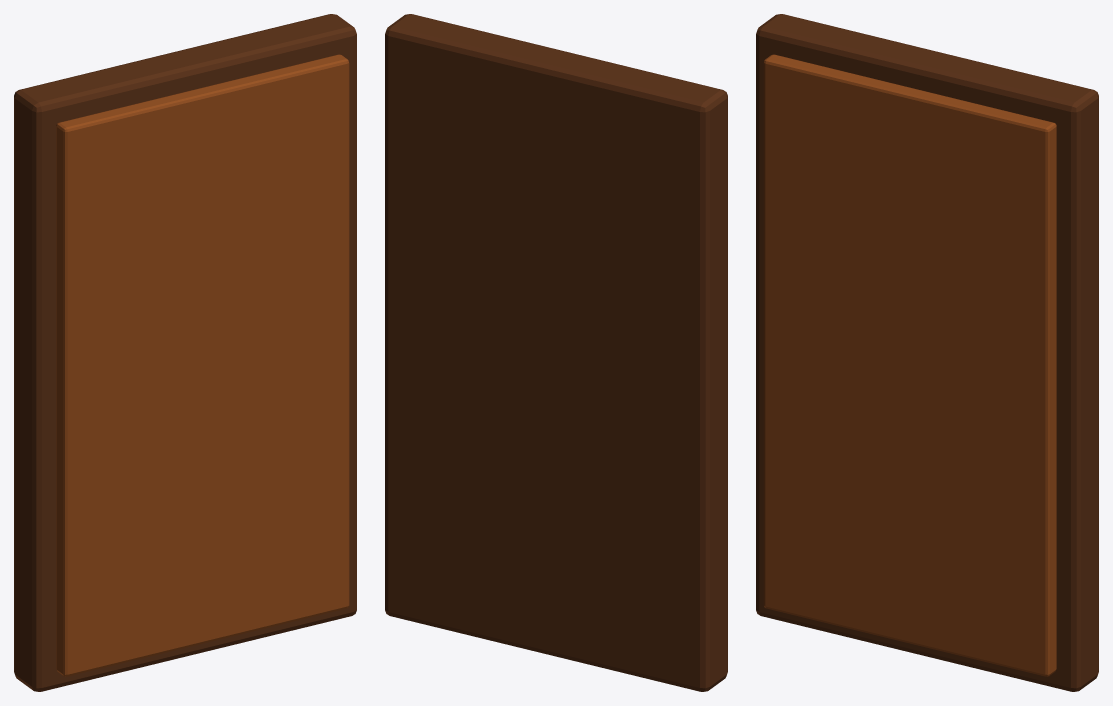
The model's file is door_bronze_pivot_LOD1.glb.
3 views of the same model, side by side, from view 1: azimuth 30°, elevation 25°; view 2: azimuth 150°, elevation 25°; view 3: azimuth 330°, elevation 25° (orthographic).
Parts seen in each view (by area): view 1: LOD1_RaisedFrame, LOD1_BronzeDoor; view 2: LOD1_BronzeDoor; view 3: LOD1_RaisedFrame, LOD1_BronzeDoor.
Part boxes in pixels (<box>): LOD1_RaisedFrame: <box>56,54,349,676</box>; LOD1_BronzeDoor: <box>14,14,356,691</box>; LOD1_BronzeDoor: <box>385,14,727,691</box>; LOD1_RaisedFrame: <box>763,54,1056,676</box>; LOD1_BronzeDoor: <box>756,14,1098,691</box>.
Bounding box in the file's own units: 1.52 × 2.64 × 0.28.
